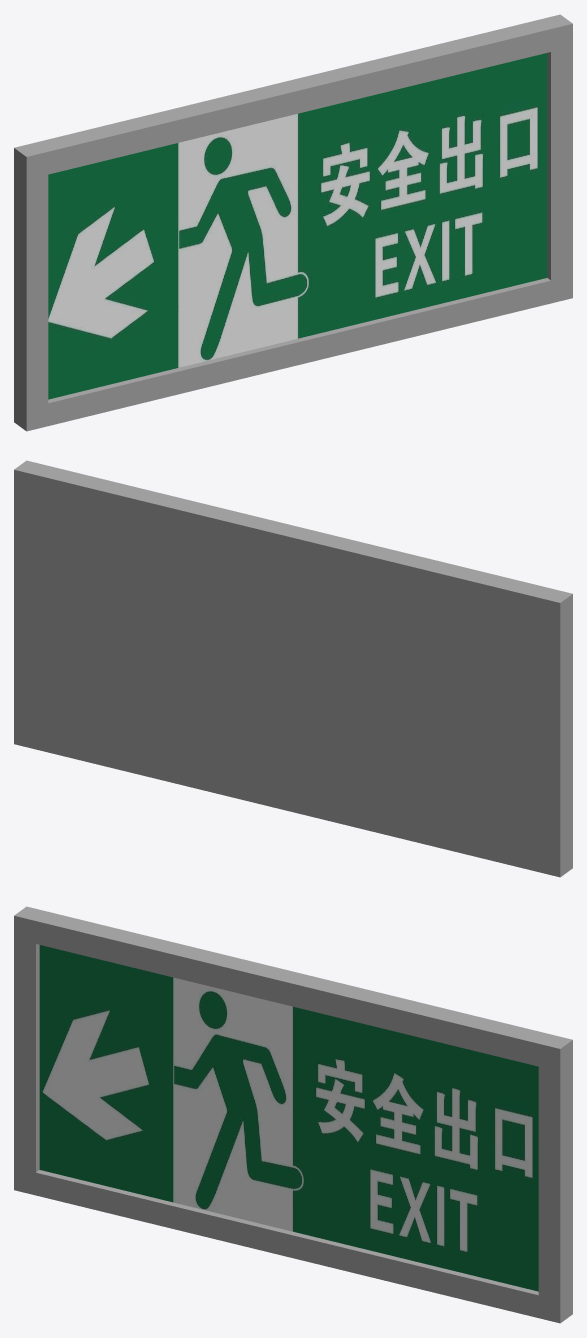
The model's file is escape.obj.
The picture shows the model from 3 angles, top to bottom: view 1: azimuth 30°, elevation 25°; view 2: azimuth 150°, elevation 25°; view 3: azimuth 330°, elevation 25°; orthographic projection.
Parts seen in each view (by area): view 1: Rectangle001; view 2: Rectangle001; view 3: Rectangle001.
Part boxes in pixels (box(x1,y1,x2,y2)): Rectangle001: box(14, 14, 572, 431); Rectangle001: box(14, 460, 572, 877); Rectangle001: box(14, 906, 572, 1323).
Bounding box in the file's own units: 0.25 × 0.12 × 0.01.
